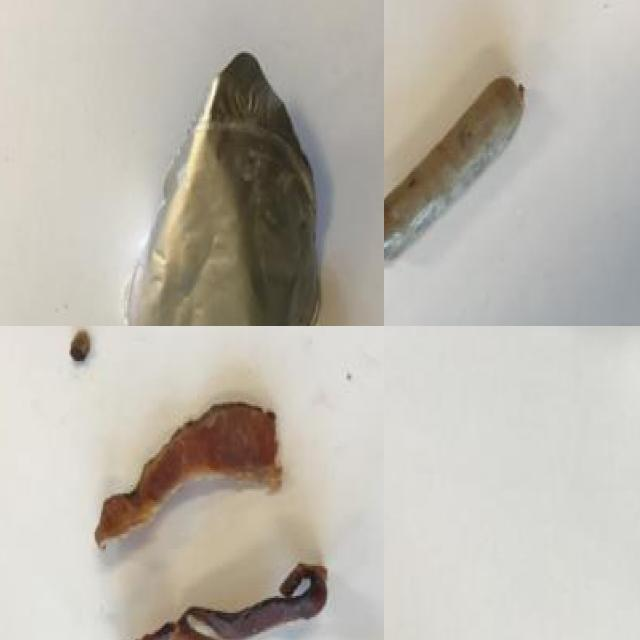compost: (68, 378, 384, 640), (384, 0, 549, 302)
trash: (118, 30, 357, 326), (497, 326, 640, 604)
